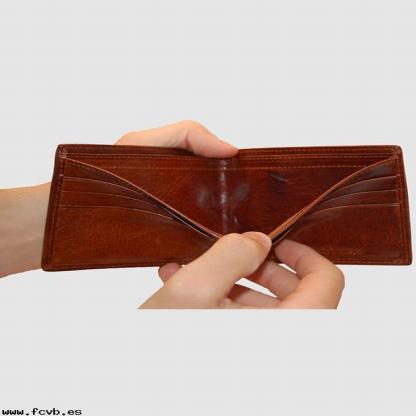monedero: (41, 142, 412, 272)
